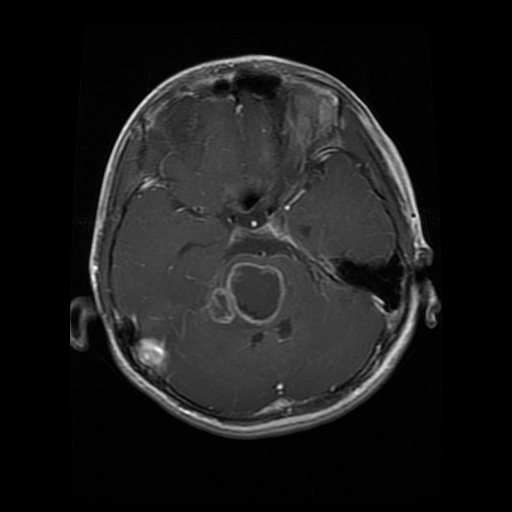glioma: (206, 260, 286, 326)
